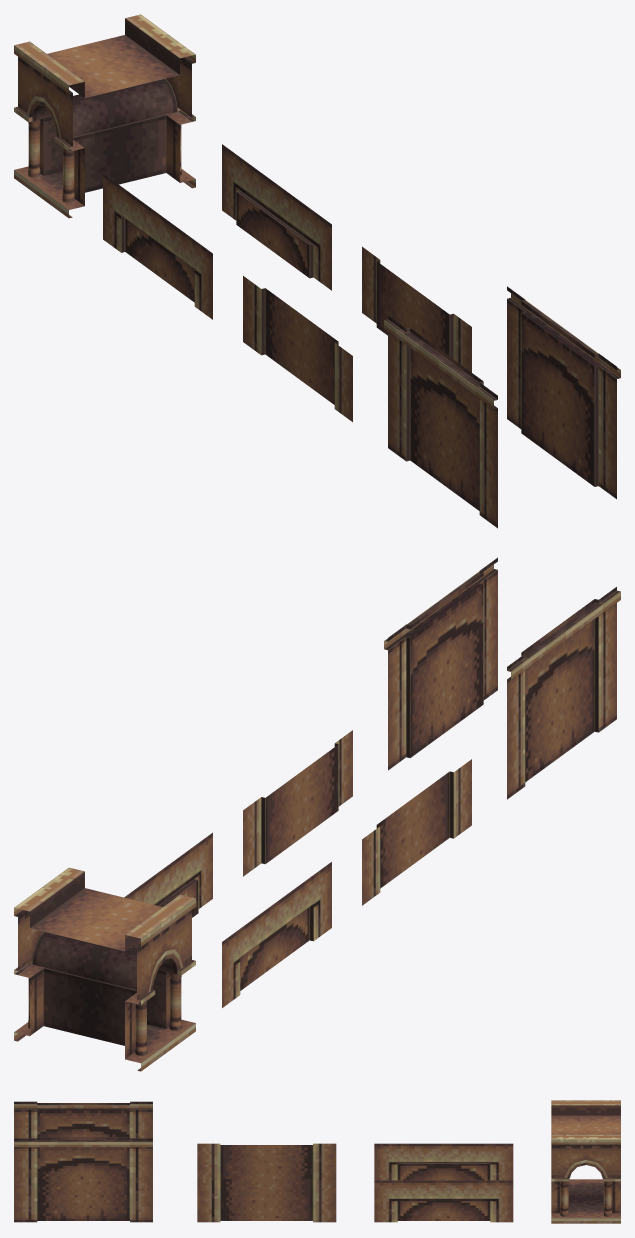
Rendered from ObjMD_Desert_Palace_WallA_z_mdl_st.FBX.
3 views of the same model, one above another, from view 1: azimuth 30°, elevation 25°; view 2: azimuth 150°, elevation 25°; view 3: azimuth 270°, elevation 25° (orthographic). The views are drawn at different scales.
Visible parts, largest first — view 1: ObjMD_Desert_Palace_WallA_z_root_st, ObjMD_Desert_Palace_WallB, ObjMD_Desert_Palace_WallA_z_top_st, ObjMD_Desert_Palace_WallA_z_mdl_st; view 2: ObjMD_Desert_Palace_WallA_z_root_st, ObjMD_Desert_Palace_WallB, ObjMD_Desert_Palace_WallA_z_mdl_st, ObjMD_Desert_Palace_WallA_z_top_st; view 3: ObjMD_Desert_Palace_WallA_z_root_st, ObjMD_Desert_Palace_WallA_z_top_st, ObjMD_Desert_Palace_WallA_z_mdl_st, ObjMD_Desert_Palace_WallB.
Boxes of the visible parts, x1,y1,x2,y2 form: ObjMD_Desert_Palace_WallA_z_root_st: (384,286,620,528); ObjMD_Desert_Palace_WallB: (14,14,195,218); ObjMD_Desert_Palace_WallA_z_top_st: (103,144,331,319); ObjMD_Desert_Palace_WallA_z_mdl_st: (243,246,471,421); ObjMD_Desert_Palace_WallA_z_root_st: (384,557,620,799); ObjMD_Desert_Palace_WallB: (14,867,195,1071); ObjMD_Desert_Palace_WallA_z_mdl_st: (243,730,471,905); ObjMD_Desert_Palace_WallA_z_top_st: (124,832,331,1007); ObjMD_Desert_Palace_WallA_z_root_st: (14,1101,152,1222); ObjMD_Desert_Palace_WallA_z_top_st: (374,1143,513,1222); ObjMD_Desert_Palace_WallA_z_mdl_st: (197,1143,336,1222); ObjMD_Desert_Palace_WallB: (551,1100,620,1223).
Size of the model in its own units: 200 by 200 by 1310.
